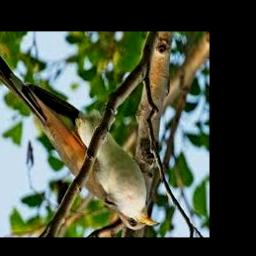Cuckoo: (0, 39, 159, 230)
